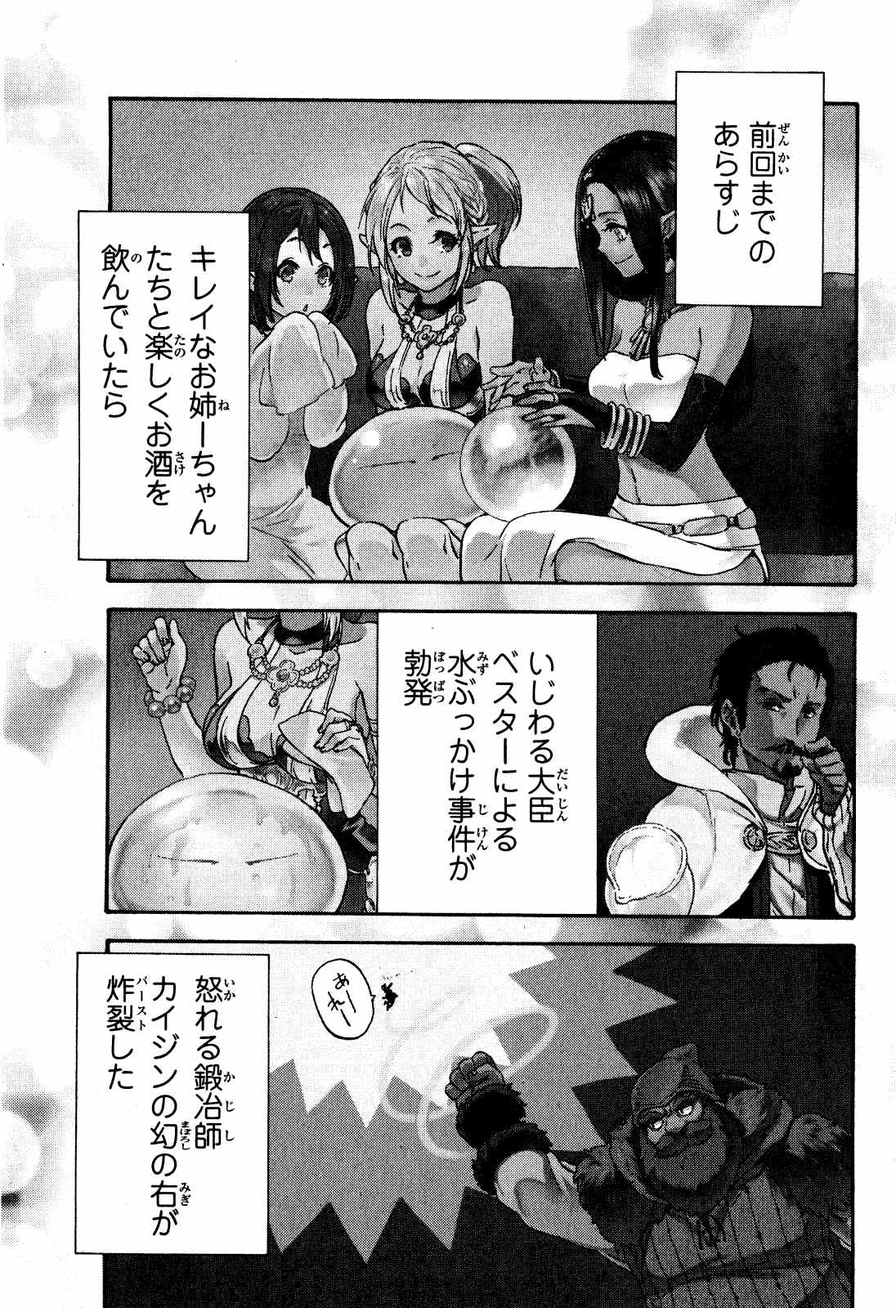bubbles: (374, 605, 603, 921), (73, 203, 256, 566), (73, 947, 273, 1260), (670, 64, 828, 311), (307, 955, 379, 1042)
